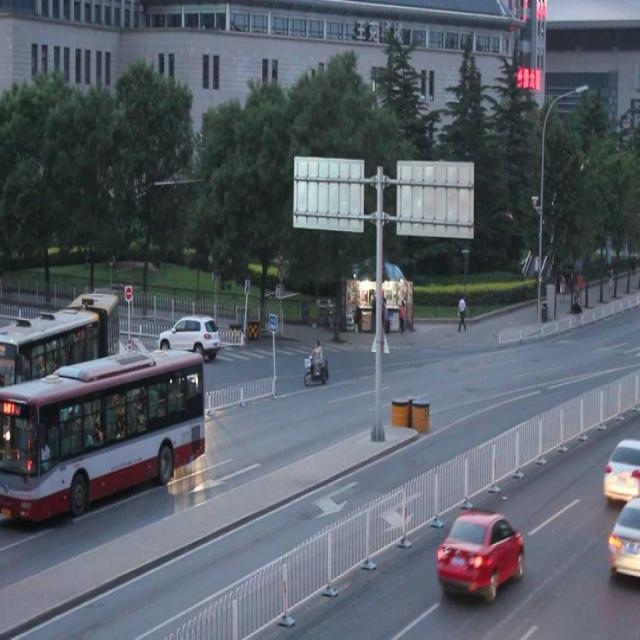car: (436, 507, 524, 606), (162, 309, 223, 359), (606, 499, 640, 576), (121, 332, 167, 387), (601, 436, 640, 498)
van: (1, 347, 204, 529), (1, 291, 119, 427)
